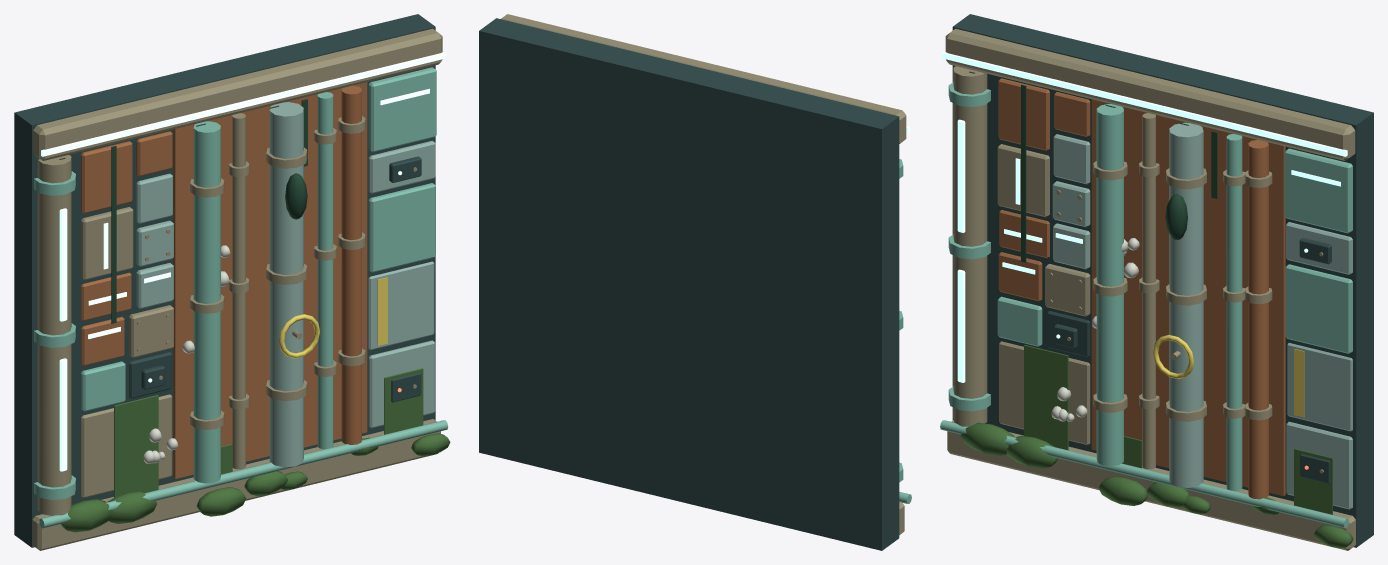
Rendered from wall_dr_works.glb.
3 renders of one model, left to right at view 1: azimuth 30°, elevation 25°; view 2: azimuth 150°, elevation 25°; view 3: azimuth 330°, elevation 25°, orthographic.
Visible parts, largest first — view 1: wall_dr_works; view 2: wall_dr_works; view 3: wall_dr_works.
Part boxes in pixels (bbox=[...]): wall_dr_works: bbox=[14, 14, 450, 550]; wall_dr_works: bbox=[479, 14, 911, 550]; wall_dr_works: bbox=[940, 14, 1373, 550].
Bounding box in the file's own units: 4.04 × 4.04 × 0.74.
